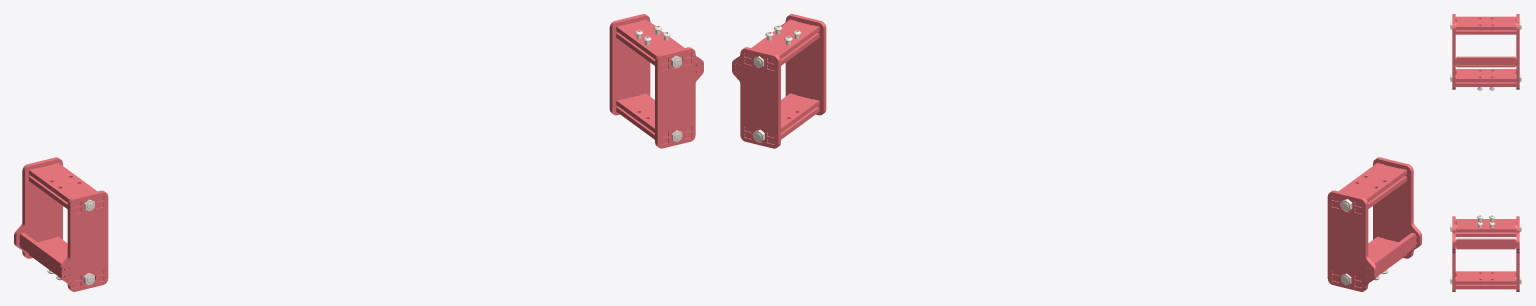
File: BATTERY MODULE V2__SPINE FRONT STOP.glb
3 renders of one model, left to right at view 1: azimuth 30°, elevation 25°; view 2: azimuth 150°, elevation 25°; view 3: azimuth 270°, elevation 25°, orthographic. The views are drawn at different scales.
Visible parts, largest first — view 1: spine_side_simple_front-stop-a (×2), spine_side_simple_front-stop-b (×2), spine_base (×4), front_bar; view 2: spine_side_simple_front-stop-b (×2), spine_side_simple_front-stop-a (×2), spine_base (×4), front_bar; view 3: spine_base (×8), front_bar (×2), spine_side_simple_front-stop-b (×2), spine_side_simple_front-stop-a (×2).
Part boxes in pixels (box(x1,y1,x2,y2)): spine_side_simple_front-stop-a (×2): box(59, 47, 703, 291); spine_side_simple_front-stop-b (×2): box(14, 14, 655, 258); spine_base (×4): box(29, 19, 690, 280); front_bar: box(19, 233, 69, 277); spine_side_simple_front-stop-b (×2): box(732, 47, 1376, 291); spine_side_simple_front-stop-a (×2): box(780, 14, 1421, 258); spine_base (×4): box(745, 19, 1406, 280); front_bar: box(1366, 233, 1417, 277); spine_base (×8): box(1455, 16, 1516, 289); front_bar (×2): box(1455, 56, 1516, 249); spine_side_simple_front-stop-b (×2): box(1516, 14, 1519, 291); spine_side_simple_front-stop-a (×2): box(1452, 14, 1455, 291).
Bounding box in the file's own units: 0.9672 × 0.1416 × 0.1321.
